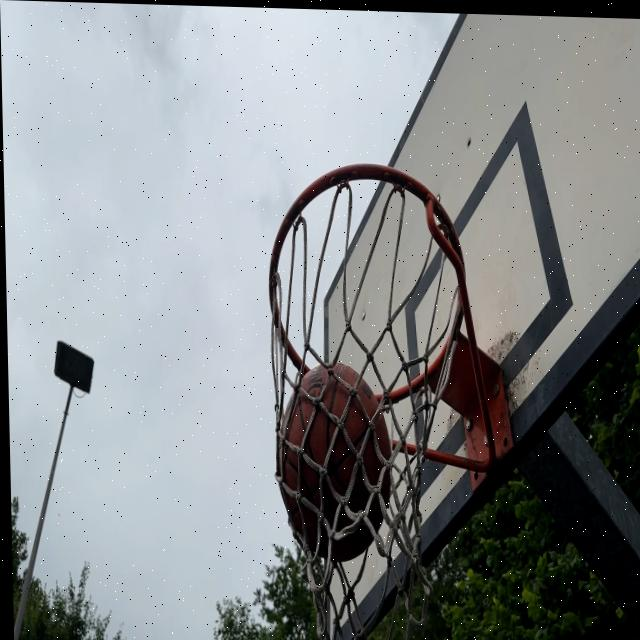Goal: (279, 360, 393, 569)
